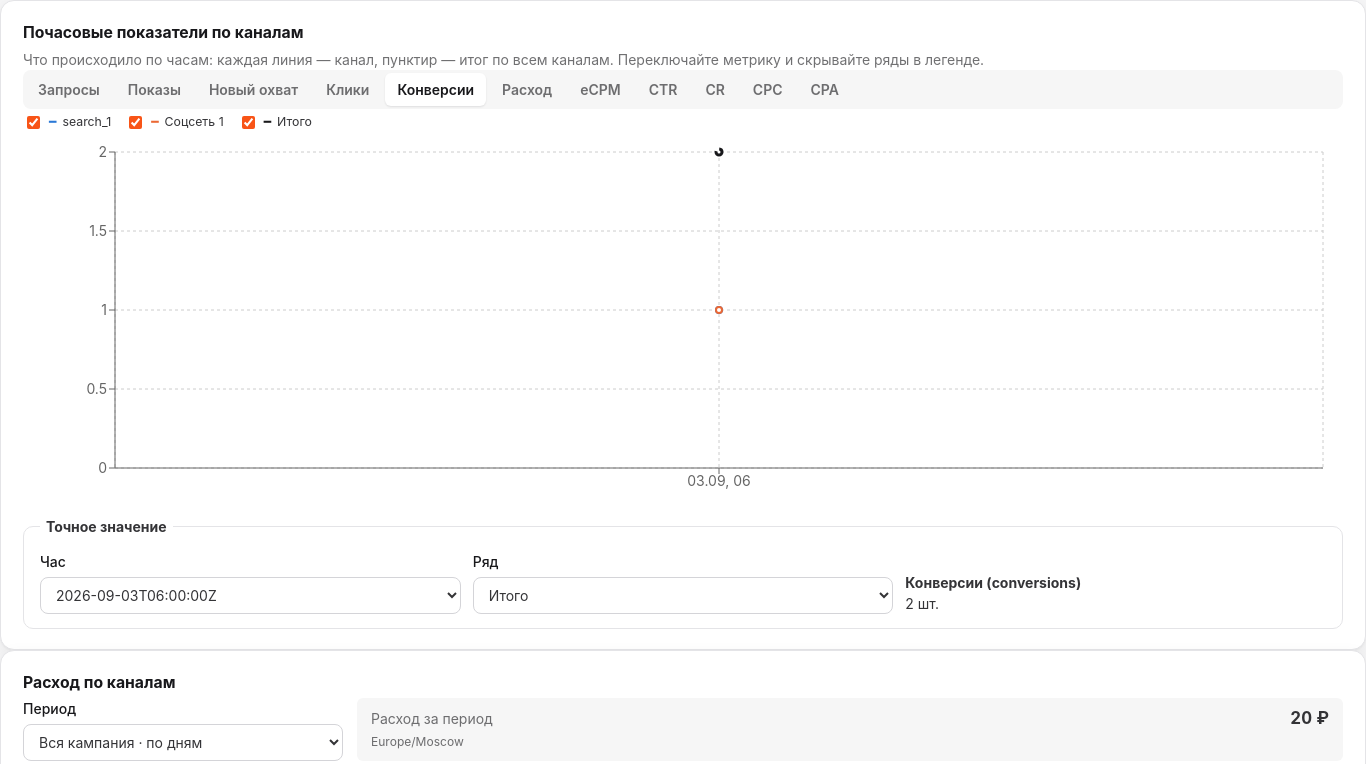
Test: MetricHistory › exposes every metric and an exact inspector
Expected: the dropdown labelled "Ряд" is shown, [473,577,893,614]
Click the tab "Новый охват" at (254, 89), box [197,73,310,106]
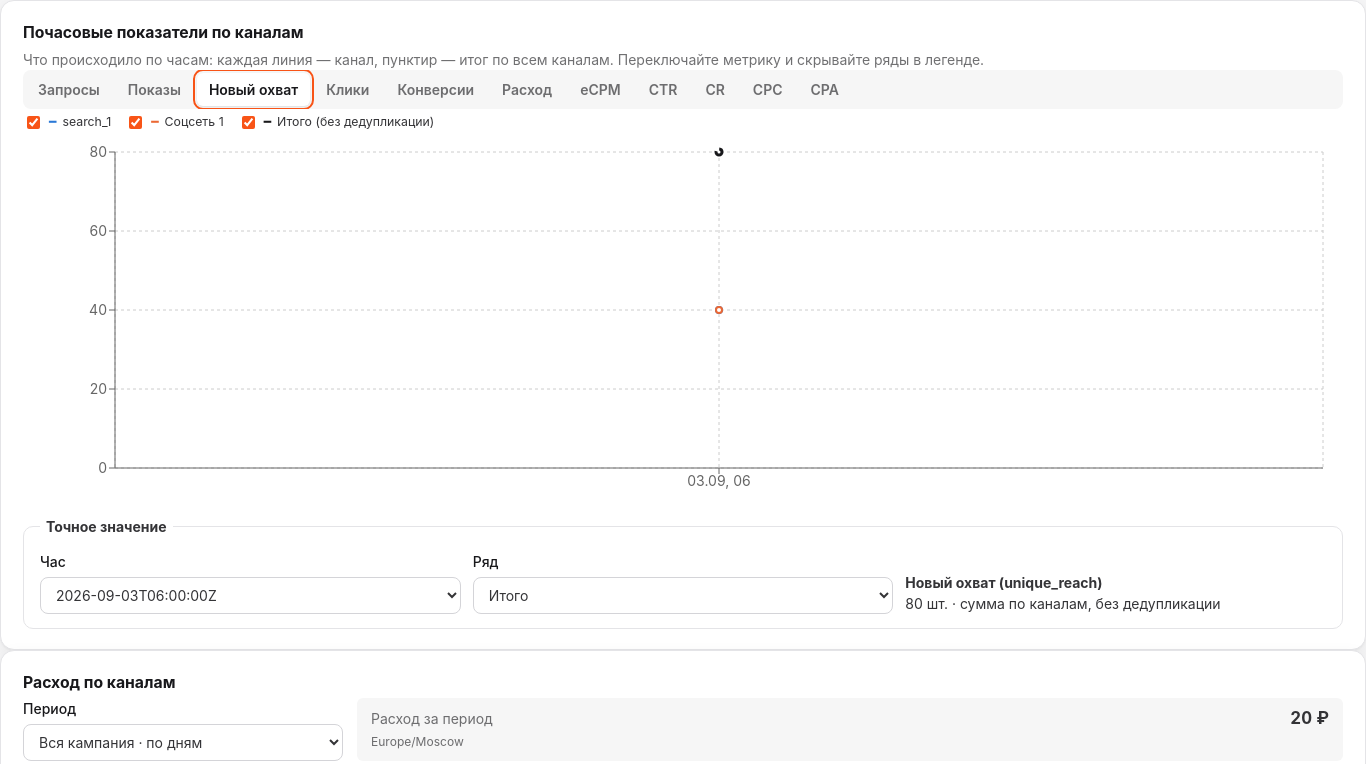
Expected: the text "Итого (без дедупликации)" is shown, [277,114,434,129]
